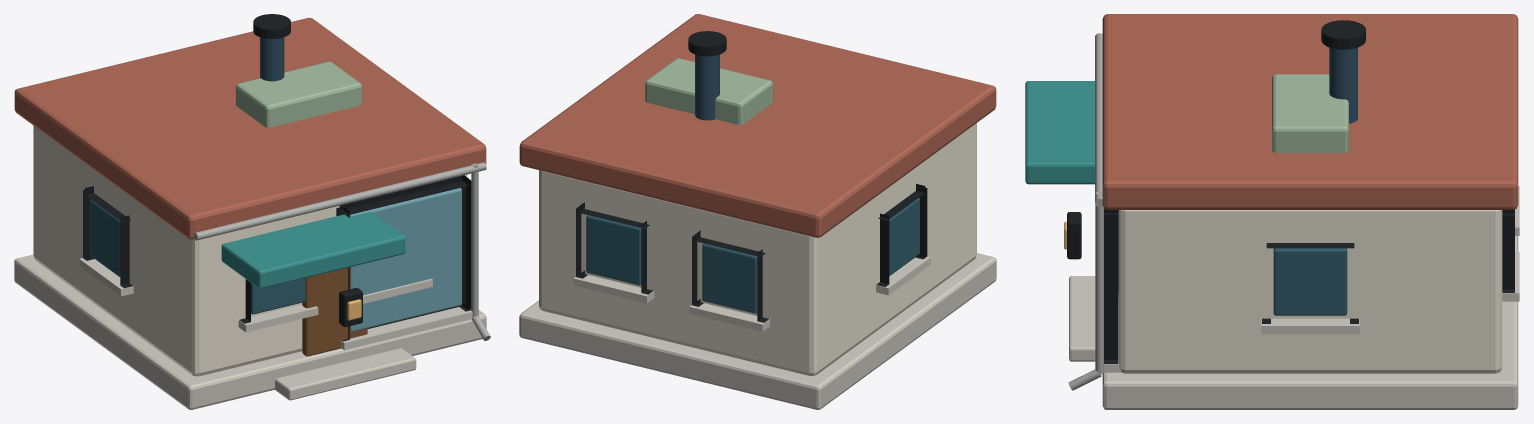
File: RES_LOW_1x1_008.glb
3 views of the same model, side by side, from view 1: azimuth 30°, elevation 25°; view 2: azimuth 150°, elevation 25°; view 3: azimuth 270°, elevation 25° (orthographic). The views are drawn at different scales.
Parts seen in each view (by area): view 1: RES_LOW_1x1_008_Visual; view 2: RES_LOW_1x1_008_Visual; view 3: RES_LOW_1x1_008_Visual.
Boxes of the visible parts, bbox=[...] form: RES_LOW_1x1_008_Visual: bbox=[14, 14, 490, 409]; RES_LOW_1x1_008_Visual: bbox=[519, 14, 996, 409]; RES_LOW_1x1_008_Visual: bbox=[1025, 14, 1519, 409].
Size of what is drawn, in the model's own units: 1.55 by 1.33 by 1.88.
